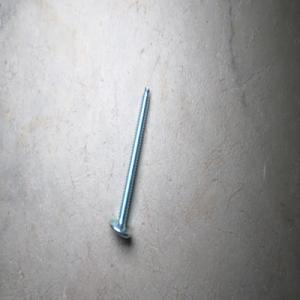Bolt: (108, 86, 150, 239)
